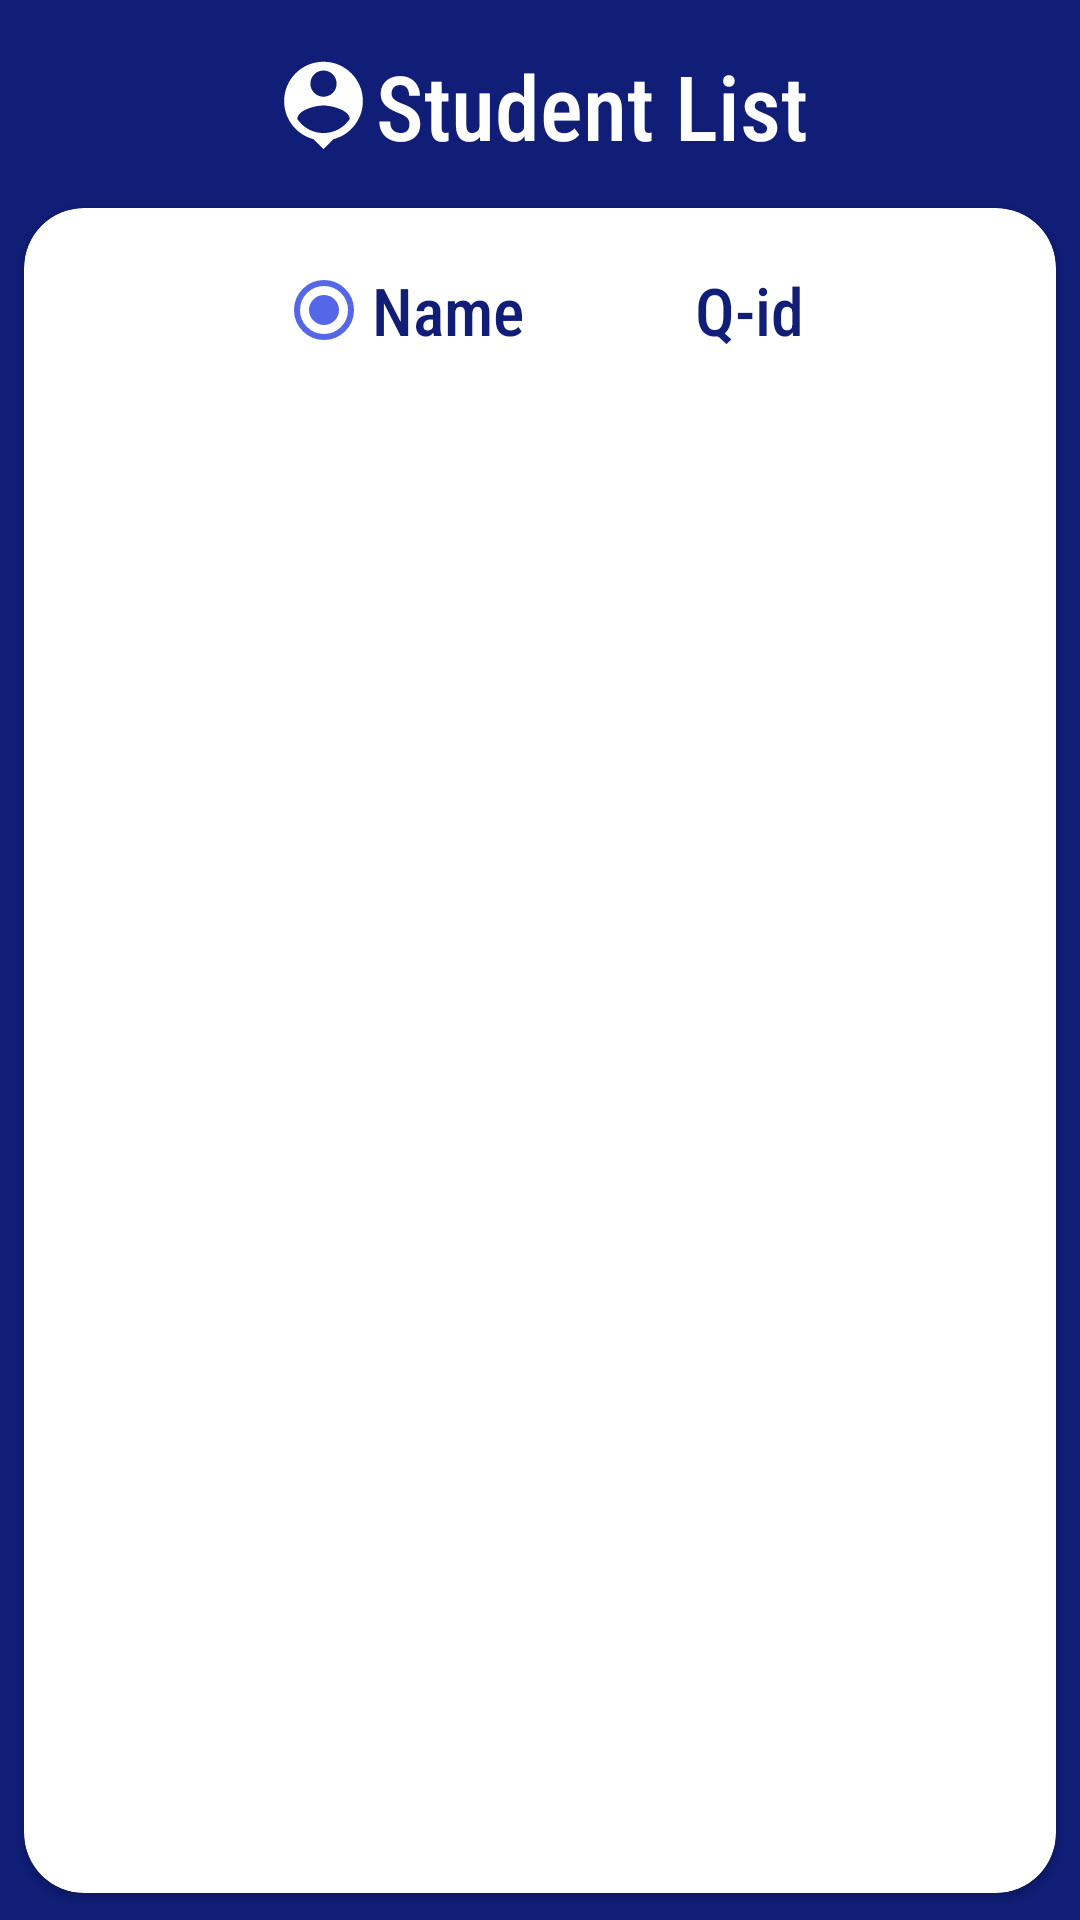

Where icons sit on this 1080 × 1920 app screen, as bbox=(x1, y1, x2, y2):
show stud: bbox=(284, 61, 363, 149)
